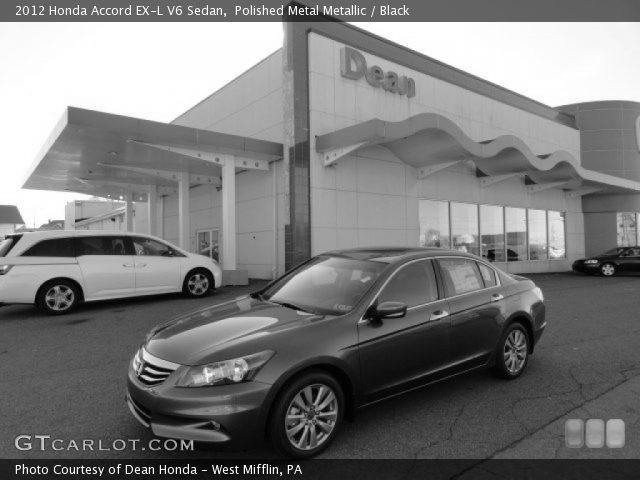car: (123, 247, 549, 463)
